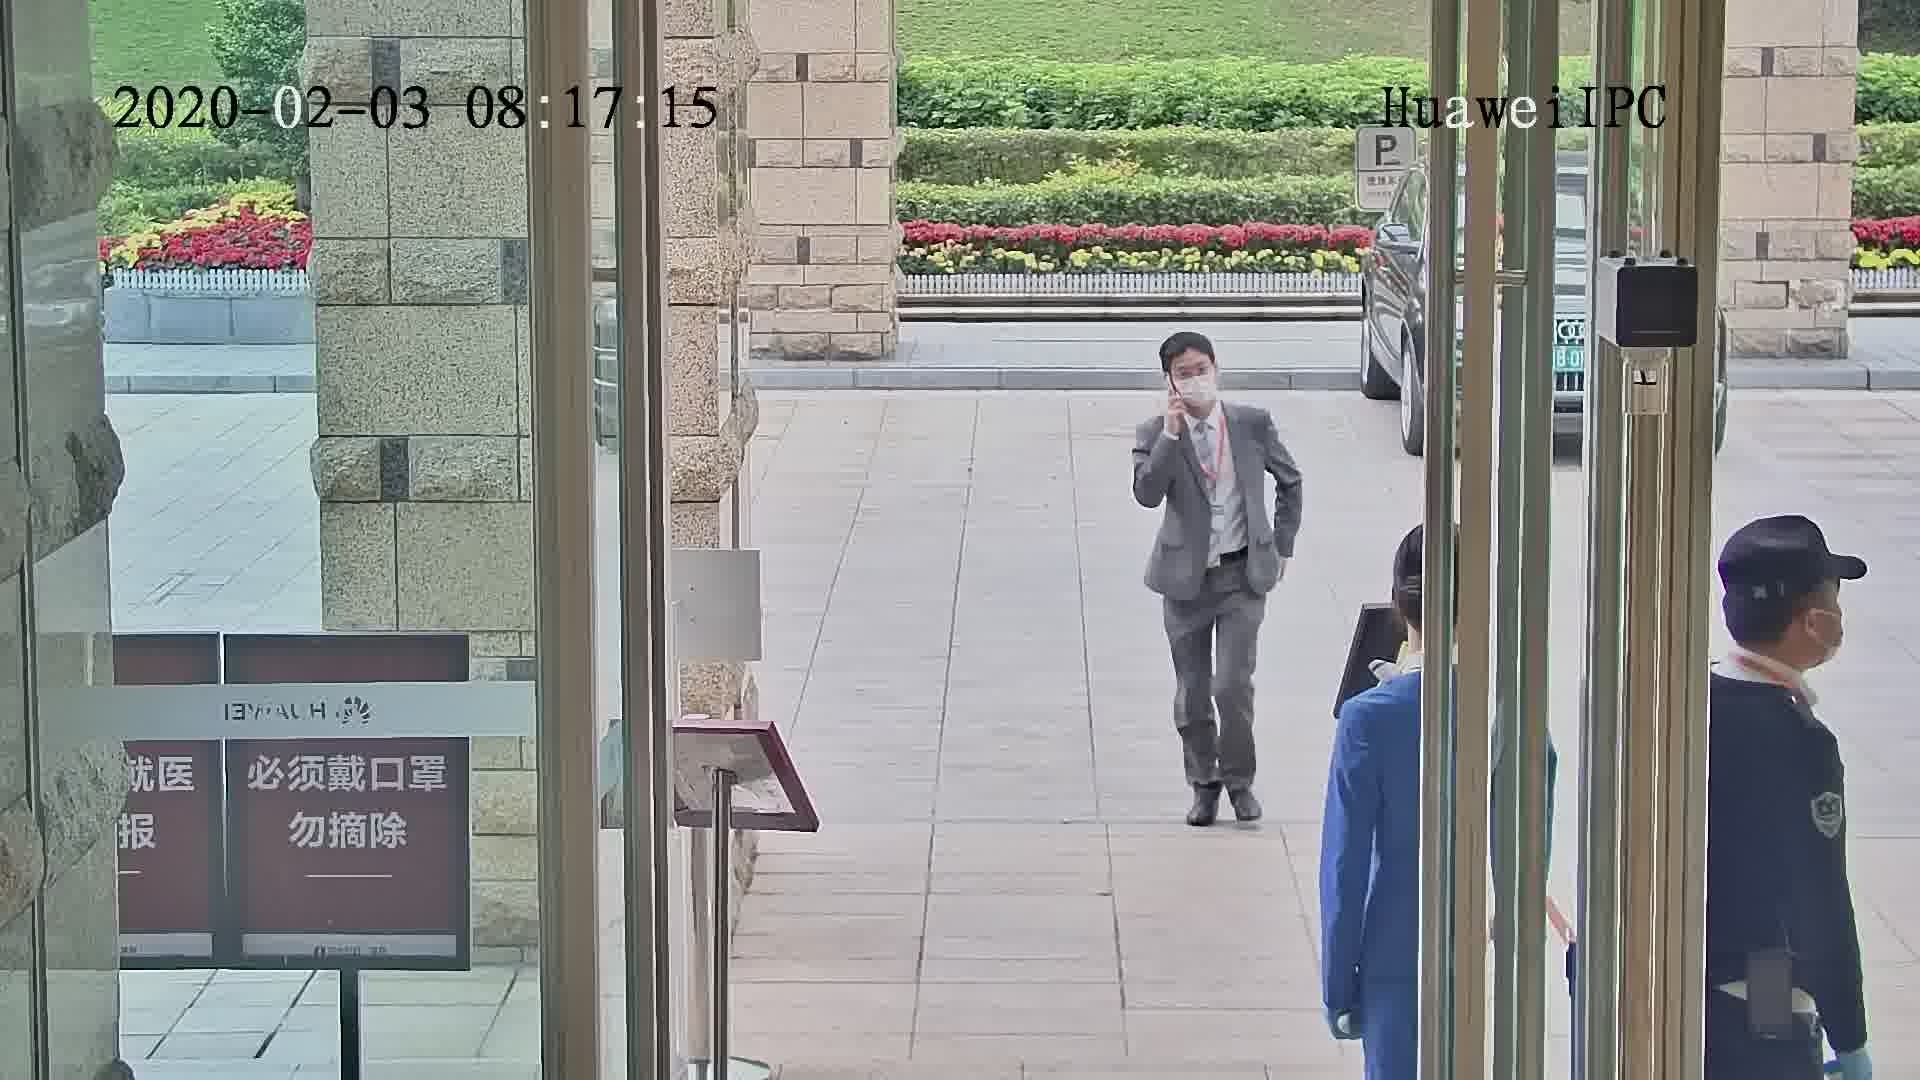face: (1167, 353, 1218, 409)
mask: (1169, 369, 1220, 406)
person: (1702, 506, 1861, 796), (1325, 522, 1425, 766), (1140, 326, 1266, 457)
